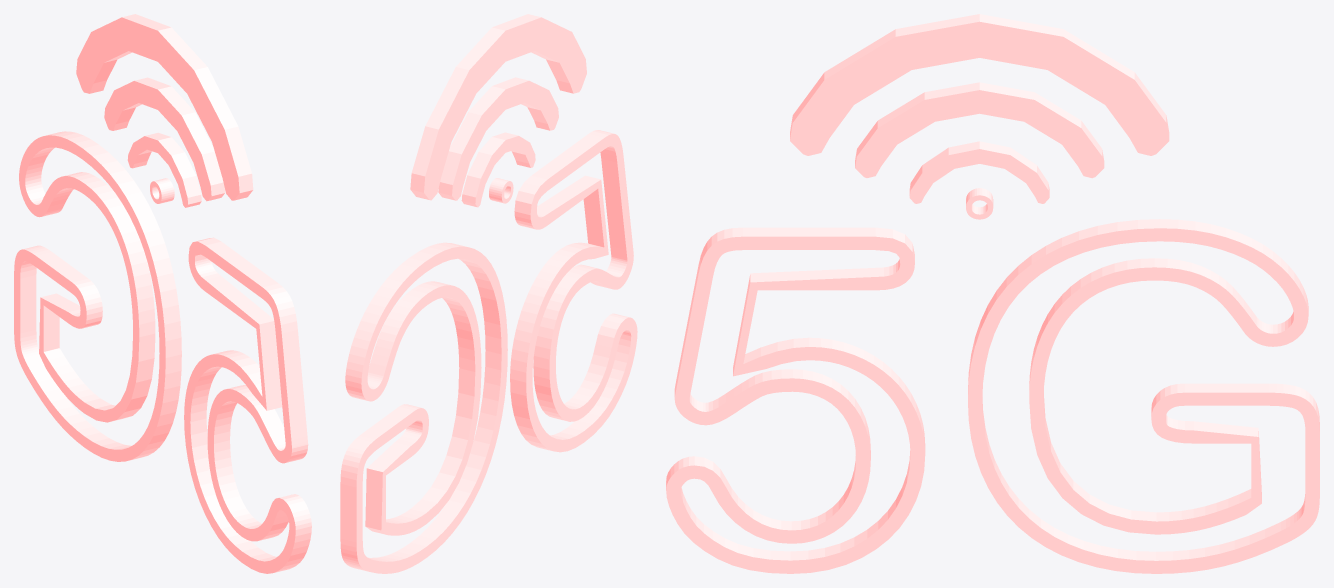
Rendered from 5G sign.fbx.
3 renders of one model, left to right at view 1: azimuth 30°, elevation 25°; view 2: azimuth 150°, elevation 25°; view 3: azimuth 270°, elevation 25°, orthographic. The views are drawn at different scales.
Parts seen in each view (by area): view 1: FiveG_Sign; view 2: FiveG_Sign; view 3: FiveG_Sign.
Boxes of the visible parts, bbox=[...] form: FiveG_Sign: bbox=[14, 14, 311, 573]; FiveG_Sign: bbox=[340, 14, 637, 573]; FiveG_Sign: bbox=[666, 14, 1319, 573].
Size of the model in its own units: 0.025 by 0.5374 by 0.5797.
